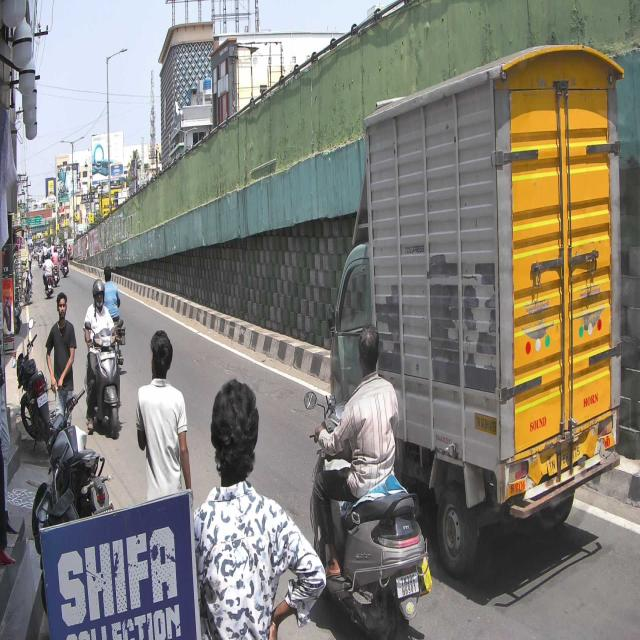single_rider: (304, 324, 432, 640)
